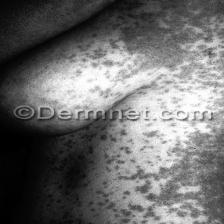Toxin: (115, 45, 167, 69), (157, 169, 193, 198)
